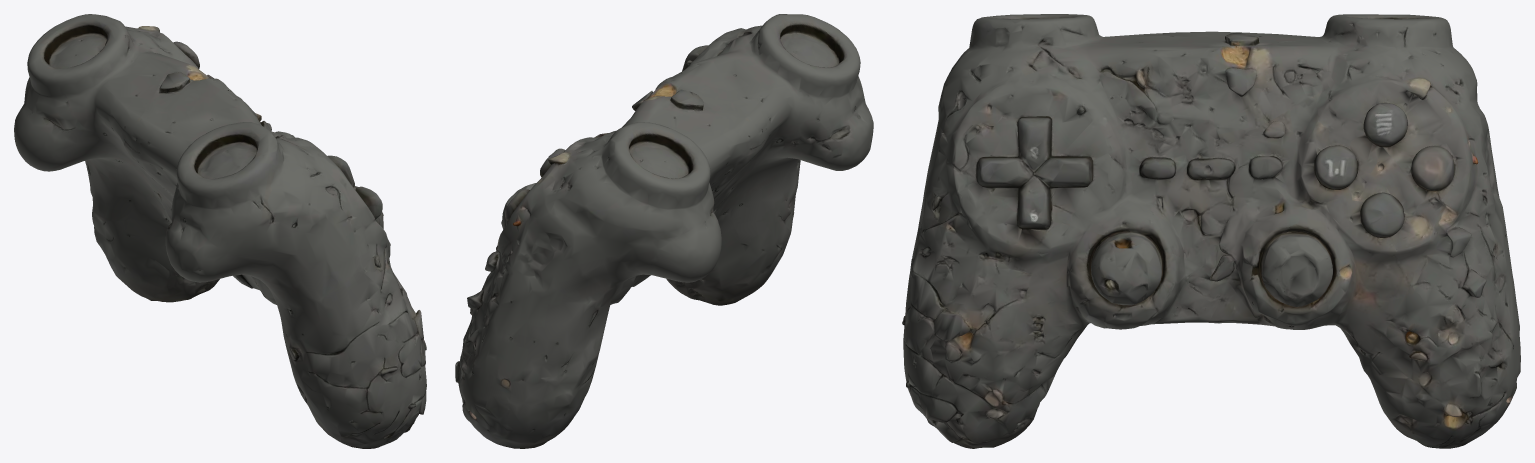
The model's file is controller_v1.glb.
3 views of the same model, side by side, from view 1: azimuth 30°, elevation 25°; view 2: azimuth 150°, elevation 25°; view 3: azimuth 270°, elevation 25° (orthographic). The views are drawn at different scales.
Parts seen in each view (by area): view 1: tripo_node_bf6491ba-40af-42ca-aec8-fcf2aac19173; view 2: tripo_node_bf6491ba-40af-42ca-aec8-fcf2aac19173; view 3: tripo_node_bf6491ba-40af-42ca-aec8-fcf2aac19173.
Part boxes in pixels (x1,y1,x2,y2): tripo_node_bf6491ba-40af-42ca-aec8-fcf2aac19173: (14, 14, 426, 448); tripo_node_bf6491ba-40af-42ca-aec8-fcf2aac19173: (455, 14, 873, 448); tripo_node_bf6491ba-40af-42ca-aec8-fcf2aac19173: (902, 14, 1520, 448).
Size of the model in its own units: 0.5452 by 0.6659 by 0.9998.
Materials: 1 (1 with a texture image).
